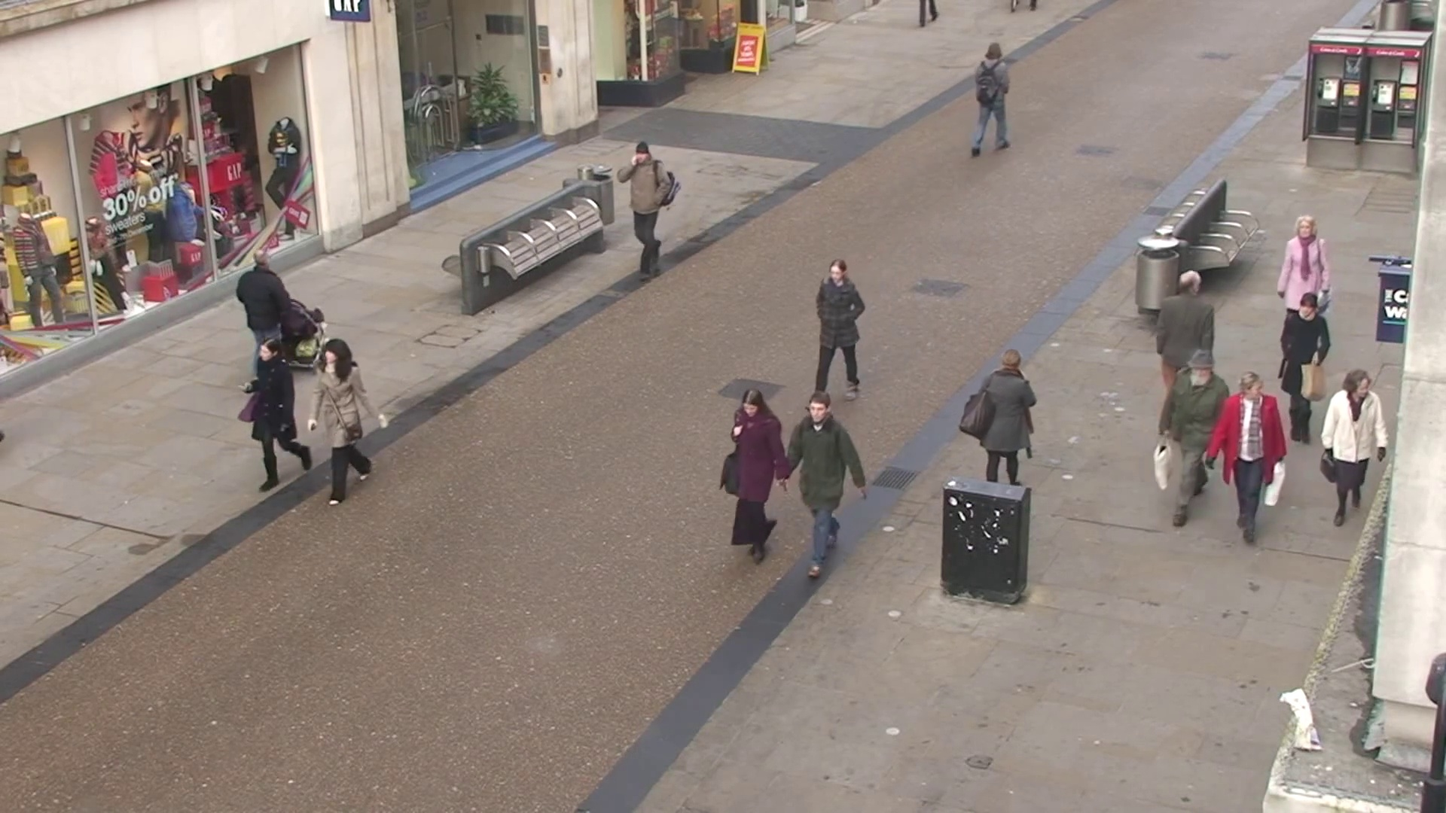person: (786, 391, 868, 581), (1208, 368, 1292, 545), (298, 337, 377, 506), (721, 384, 787, 558), (959, 349, 1038, 486), (1318, 368, 1386, 527), (1166, 349, 1232, 508), (241, 335, 308, 490), (1278, 291, 1332, 443), (621, 139, 678, 280), (1155, 269, 1217, 394), (813, 259, 866, 400), (1275, 214, 1332, 318), (969, 43, 1013, 156)
